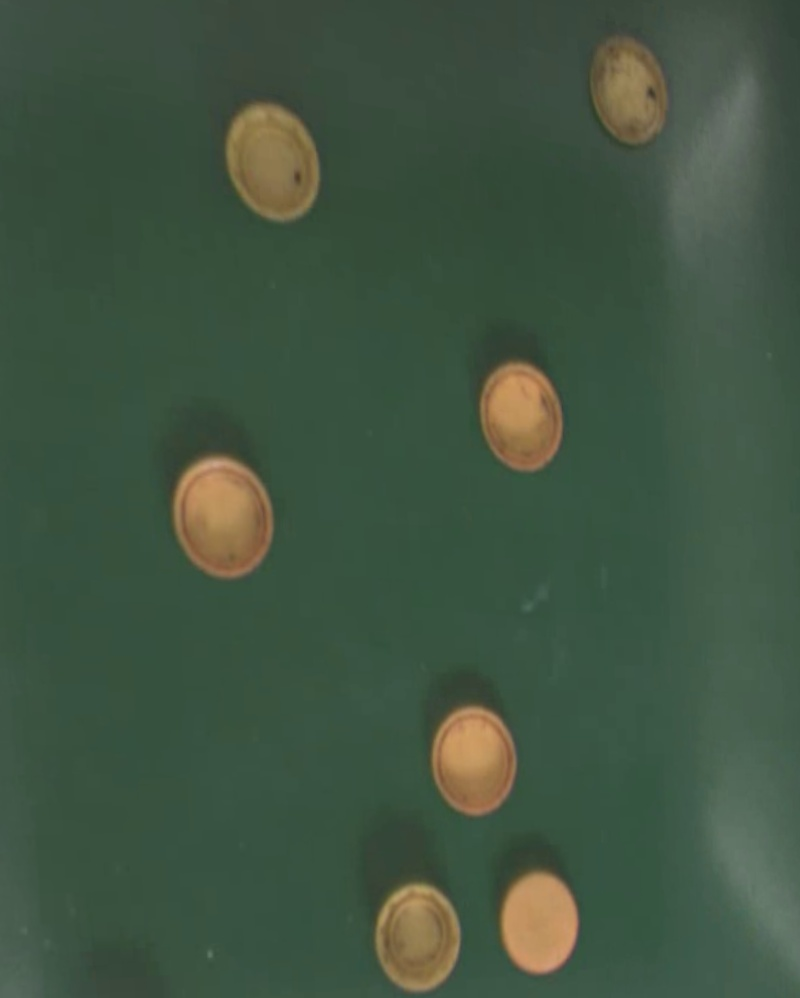Others: (221, 93, 324, 230), (169, 452, 276, 580), (372, 880, 463, 995), (588, 27, 671, 153), (429, 704, 519, 819), (478, 356, 565, 473), (496, 871, 582, 980)
